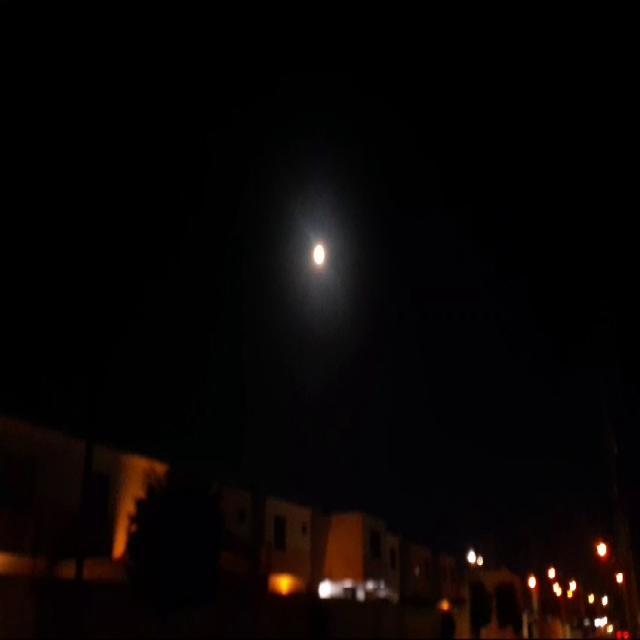moon: (312, 238, 330, 272)
